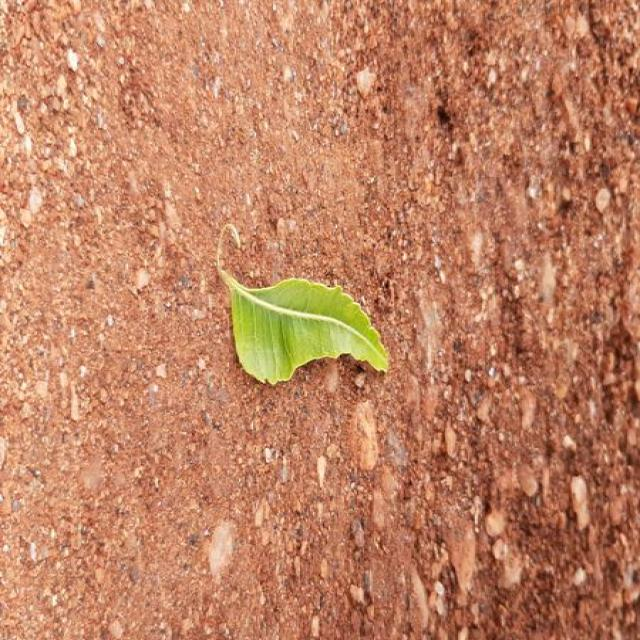neem: (217, 229, 387, 383)
